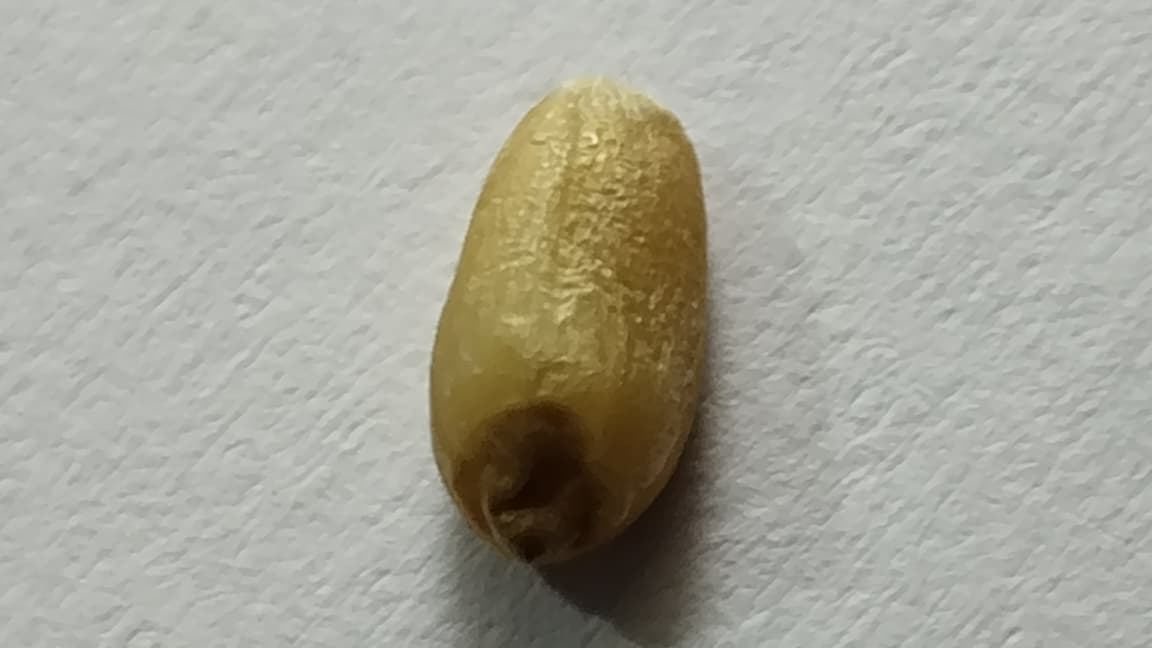healthy: (431, 79, 705, 559)
